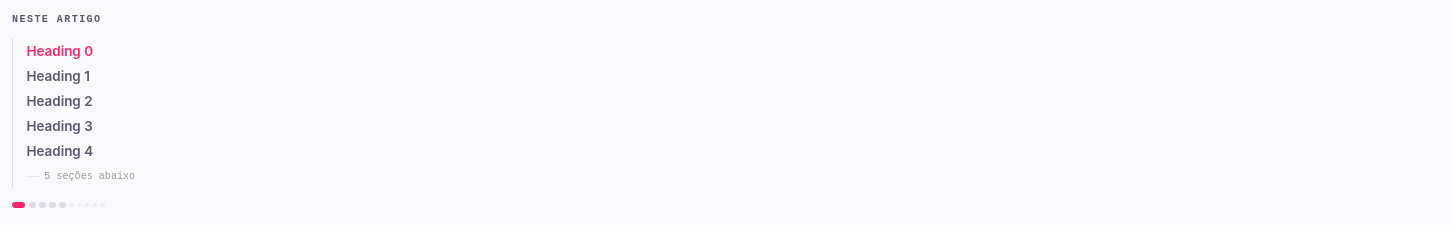
Scenario: BlogToc › com o mouse sobre o índice, a janela não desliza mesmo que a seção ativa mude
Hover over the navigation bar "Neste artigo" at x=732, y=110, box [12, 12, 1451, 208]
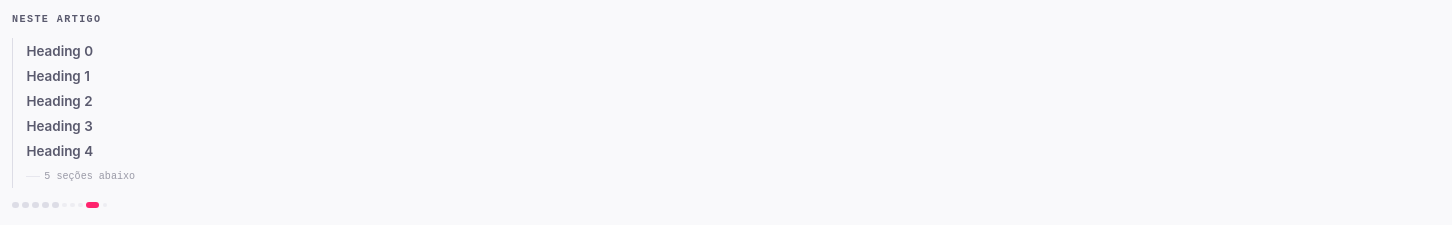
Expected: the link "Heading 0" is shown, [26, 43, 93, 59]
Move the pointer off the navigation bar "Neste artigo"
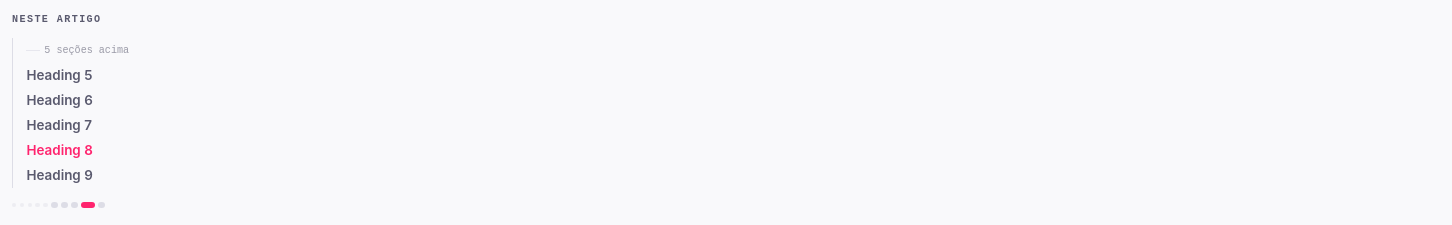
Expected: the link "Heading 8" is shown, [26, 142, 93, 158]
